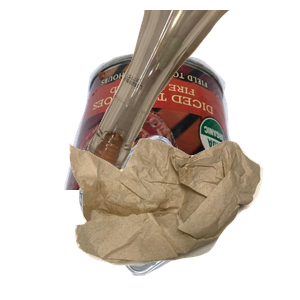glass: (80, 10, 300, 182)
metal: (62, 47, 300, 227)
plastic: (77, 133, 289, 300)
trash: (67, 136, 300, 300)
